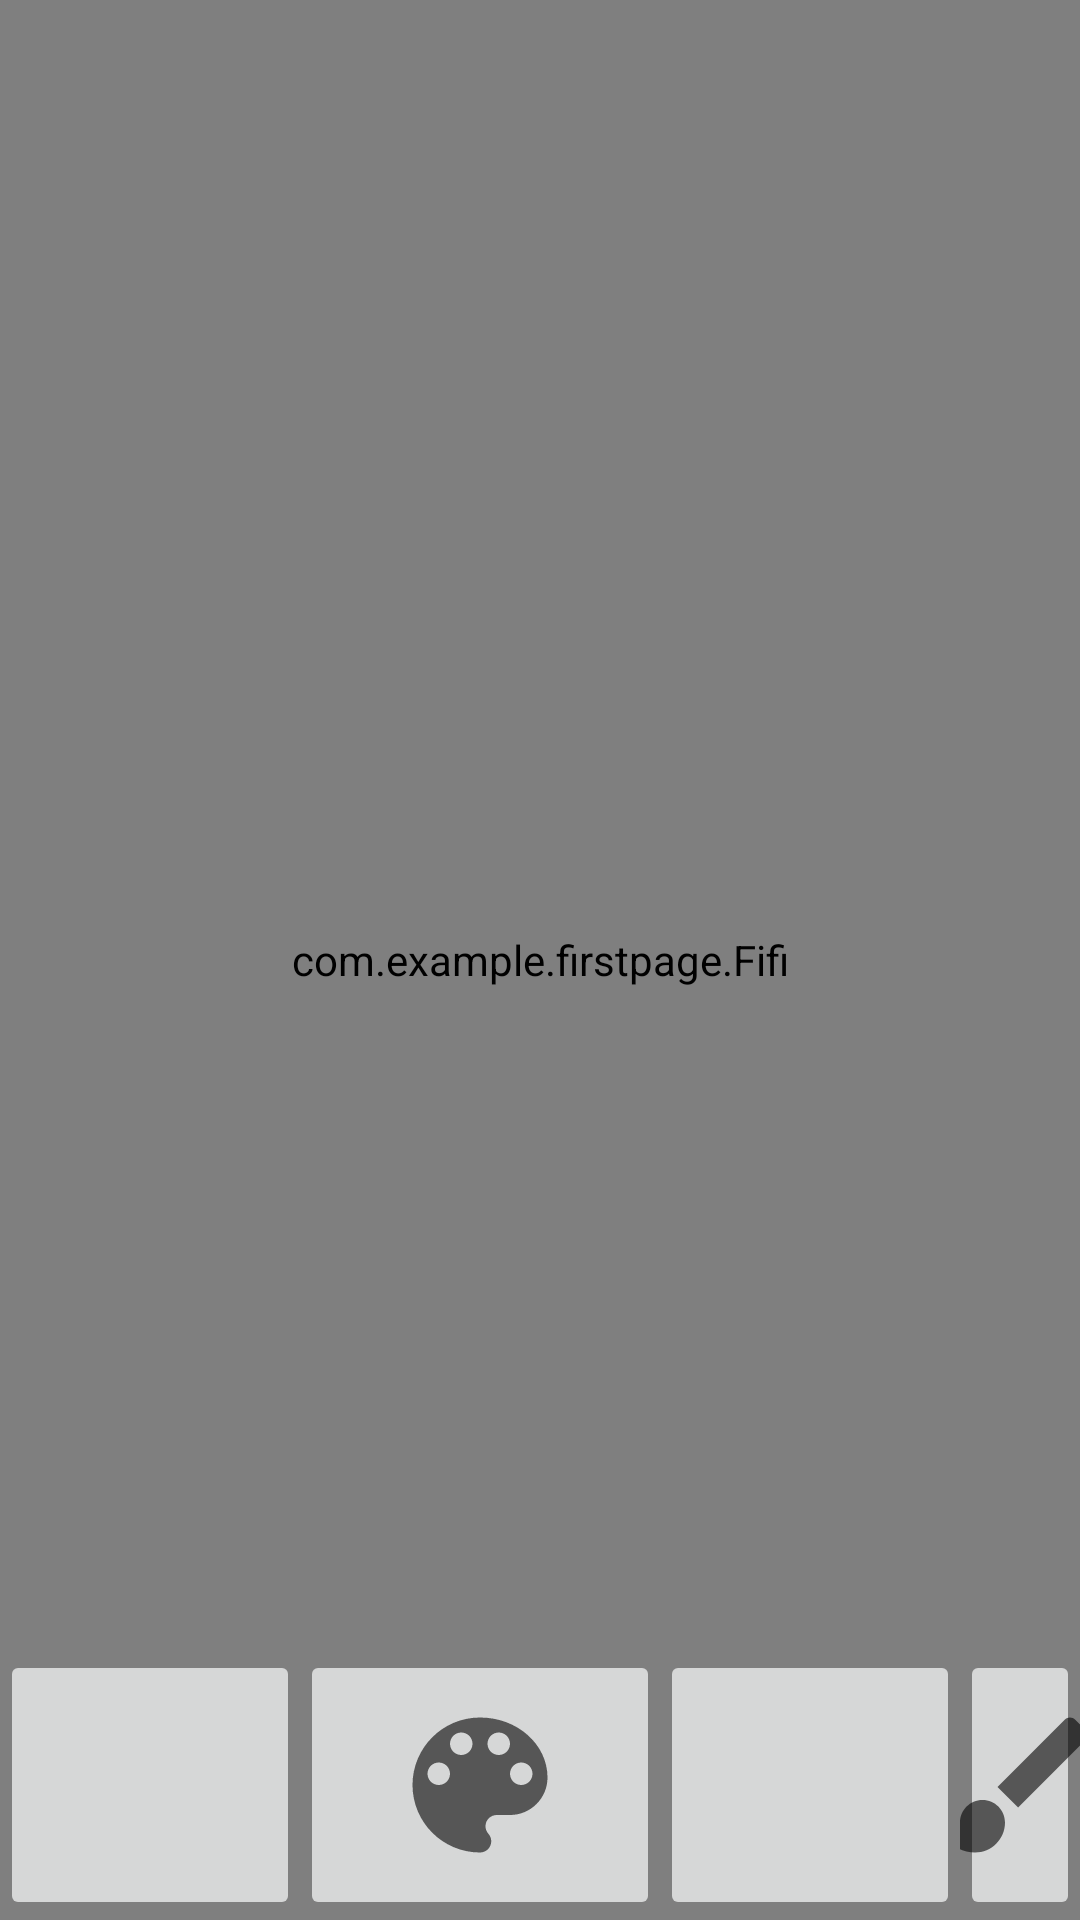

Icon bounding boxes for this 1080x1920 phone screenshot, format (x1, y1, x2, y2):
brush: (960, 1668, 1080, 1902)
